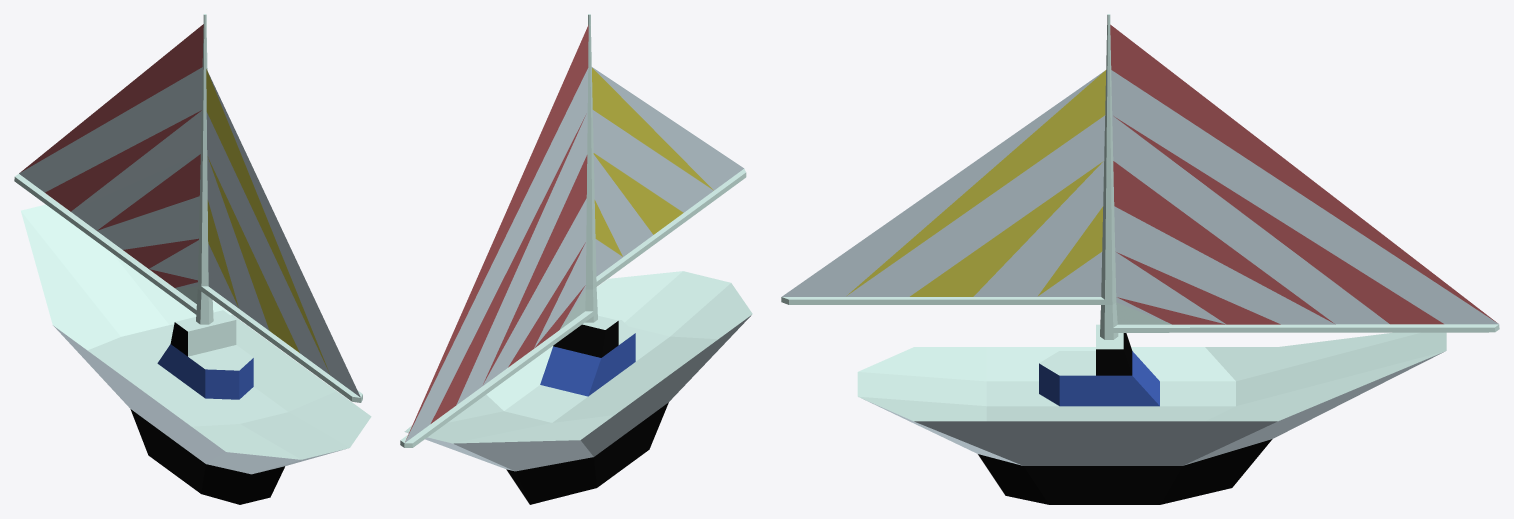
The model's file is sailboat.glb.
The picture shows the model from 3 angles, left to right: view 1: azimuth 30°, elevation 25°; view 2: azimuth 150°, elevation 25°; view 3: azimuth 270°, elevation 25°; orthographic projection. The views are drawn at different scales.
Parts seen in each view (by area): view 1: Boat; view 2: Boat; view 3: Boat.
Part boxes in pixels (left/top/right/bottom): Boat: left=14, top=14, right=371, bottom=504; Boat: left=400, top=14, right=752, bottom=504; Boat: left=781, top=14, right=1499, bottom=504.
Bounding box in the file's own units: 1.52 × 4.5 × 6.19.
